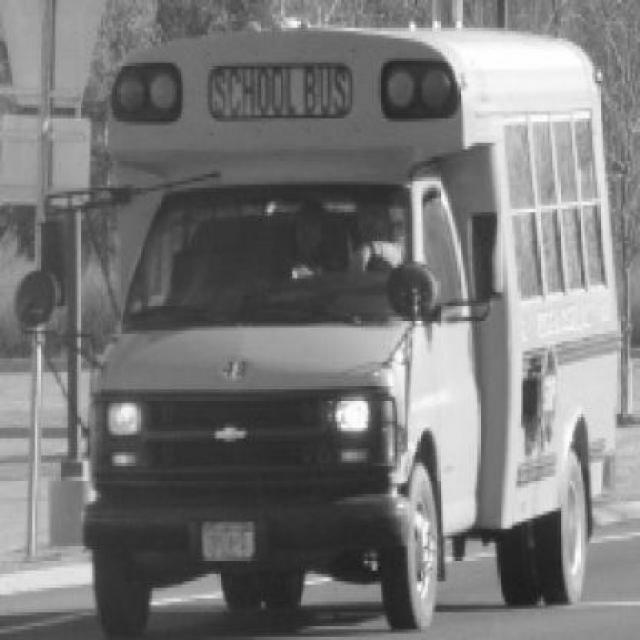Bus- Small: (16, 28, 625, 640)
